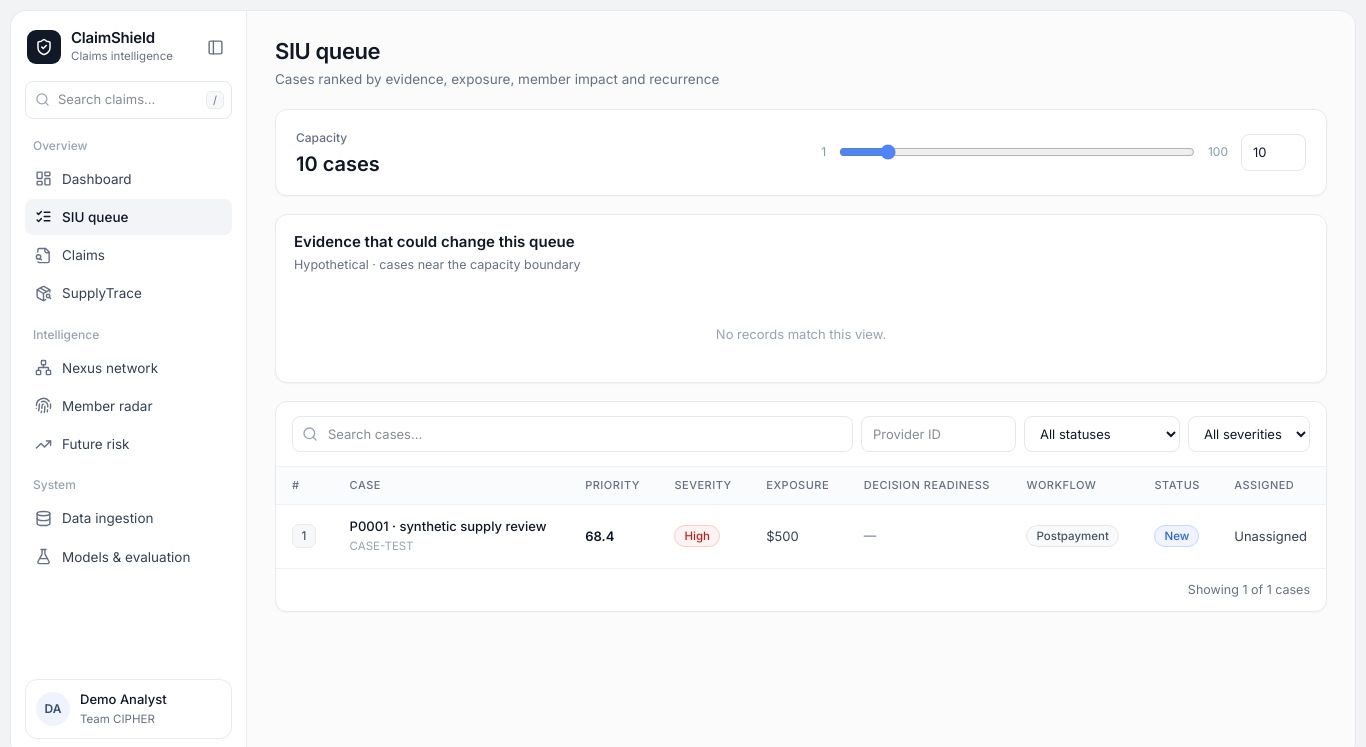
Investigator console › loads queue and opens real case route
What coordinates should you click on to do the following:
click the text "P0001 · synthetic supply review"
I would click on:
 (448, 526)
Its box is [350, 518, 547, 534].
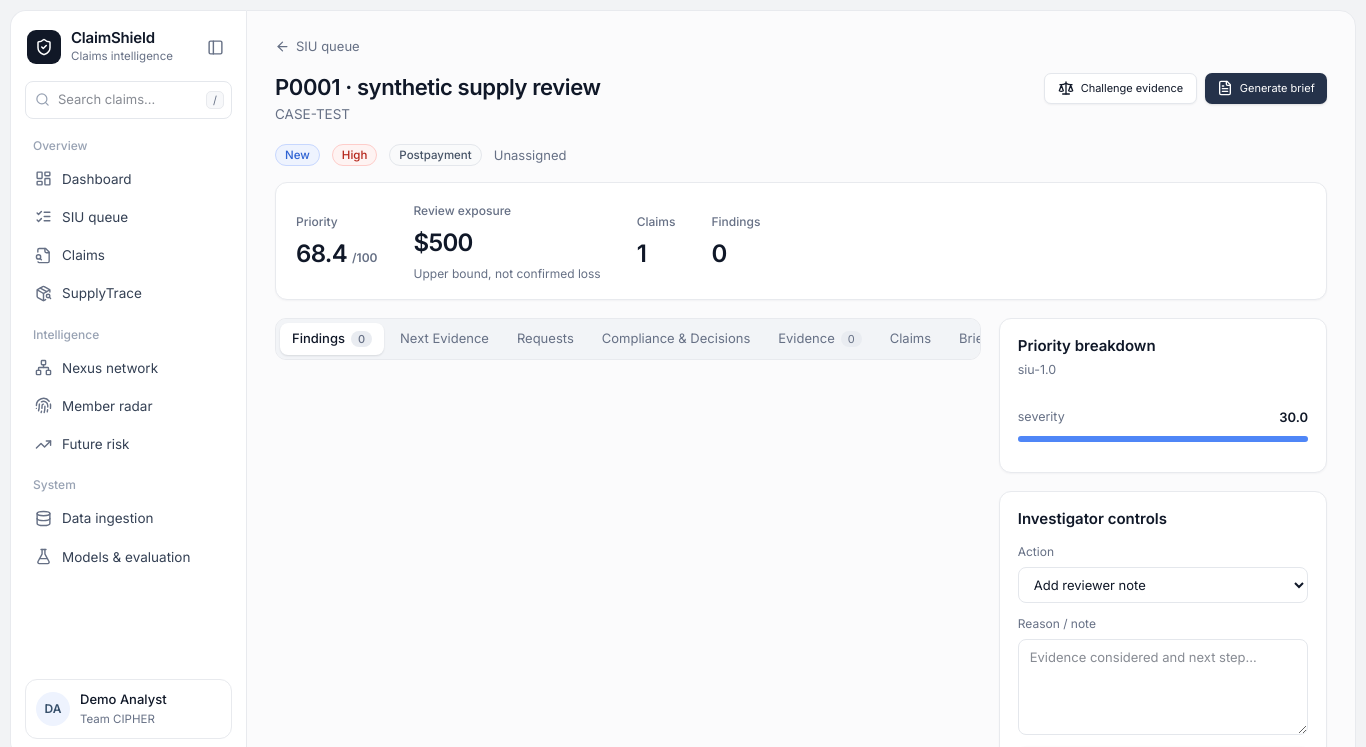
Expected: the heading "P0001 · synthetic supply review" is shown, [275, 72, 600, 101]
Expected: the heading "Investigator controls" is shown, [1018, 508, 1167, 531]
